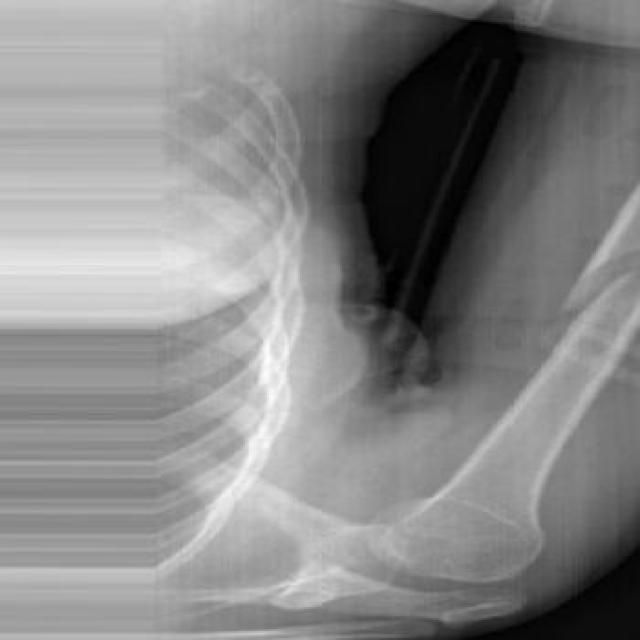Fracture: (548, 233, 640, 326)
